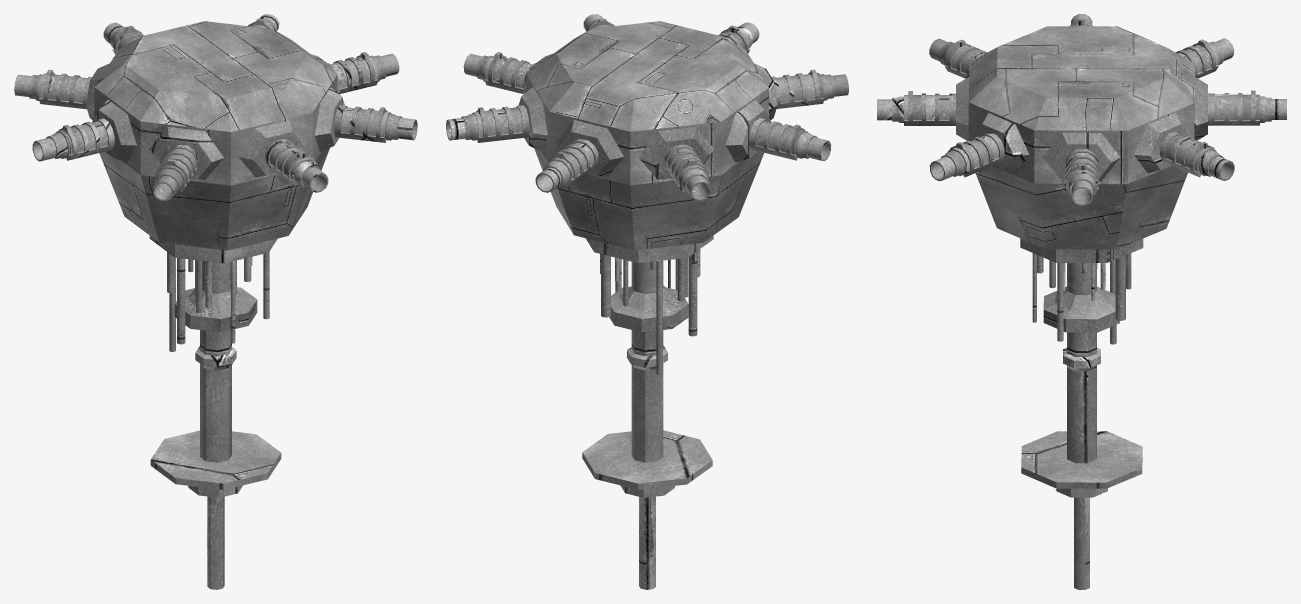
Rendered from TowerMesh.FBX.
The picture shows the model from 3 angles, left to right: view 1: azimuth 30°, elevation 25°; view 2: azimuth 150°, elevation 25°; view 3: azimuth 270°, elevation 25°; orthographic projection.
Parts seen in each view (by area): view 1: Cylinder006; view 2: Cylinder006; view 3: Cylinder006.
Part boxes in pixels (x1,y1,x2,y2): Cylinder006: (14, 14, 417, 589); Cylinder006: (446, 14, 848, 589); Cylinder006: (877, 14, 1286, 589).
Size of the model in its own units: 26.95 by 38.06 by 26.95.
